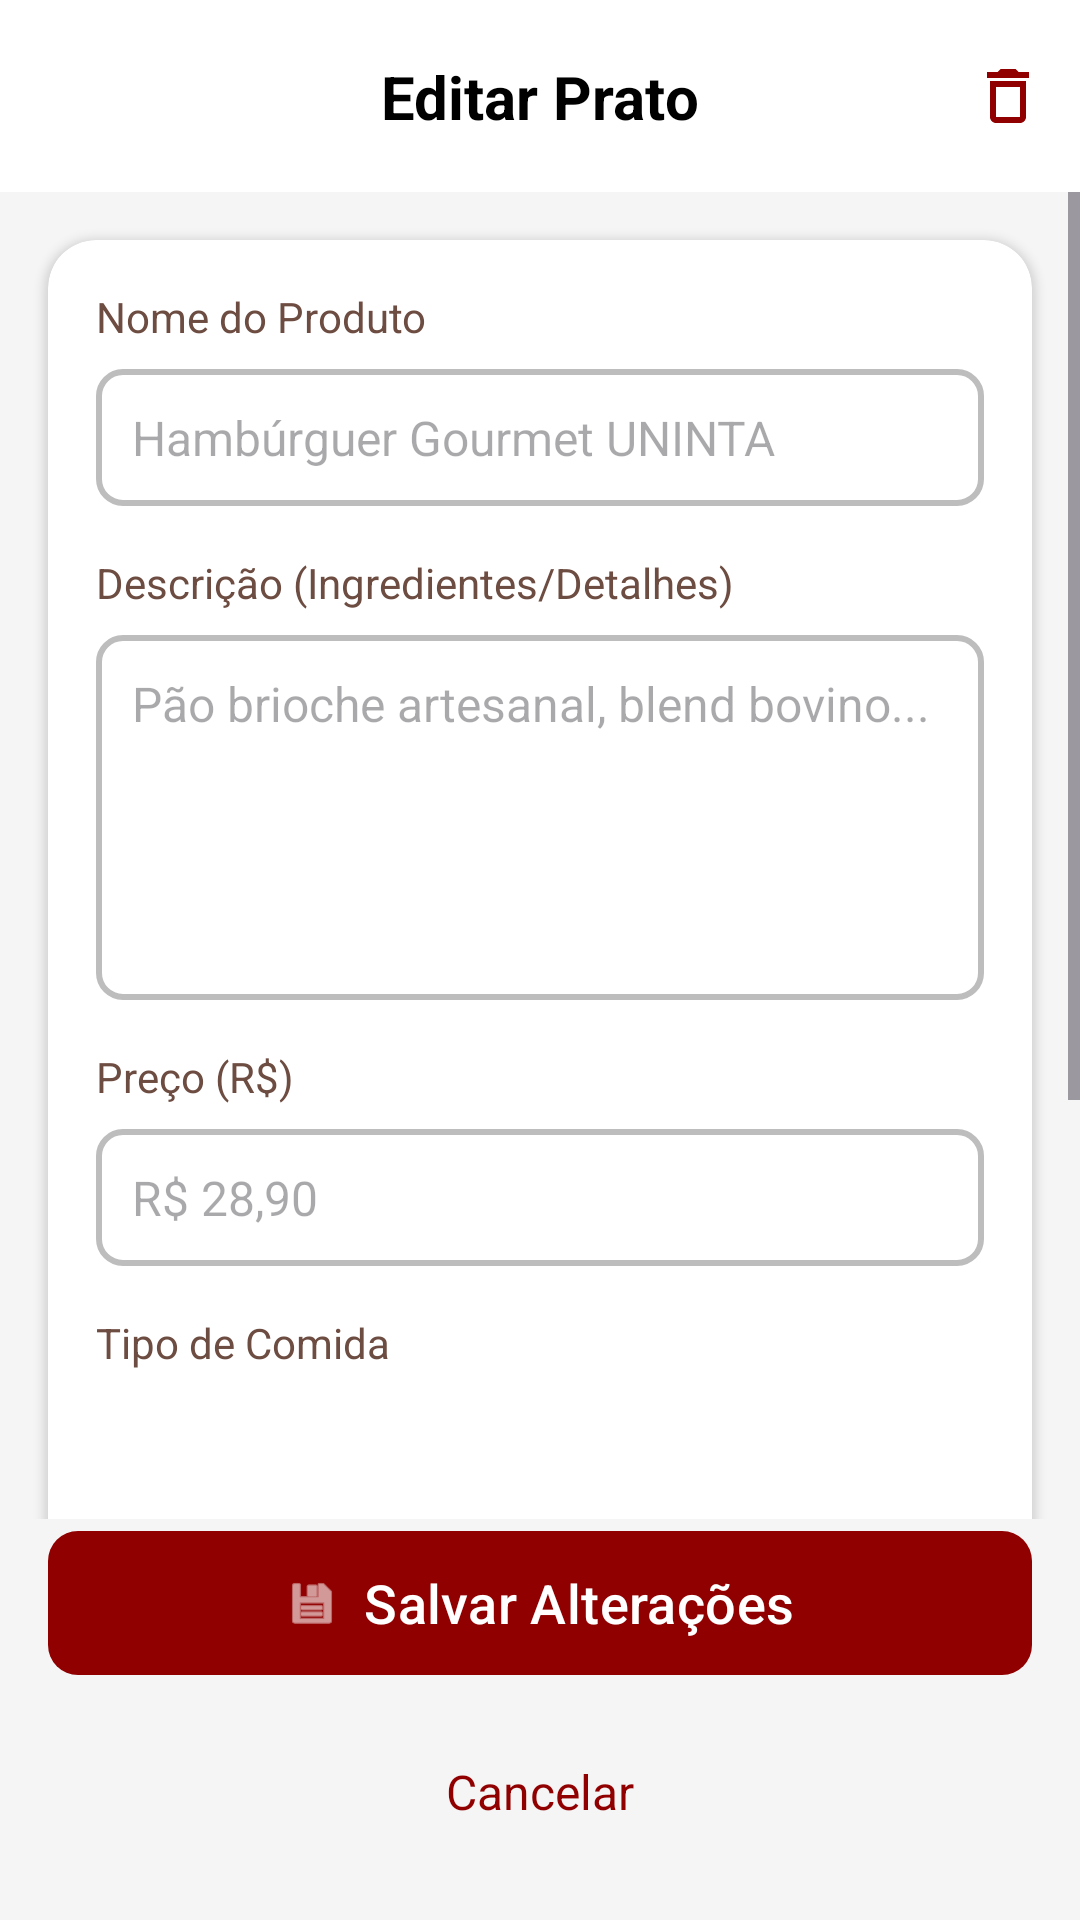

Icon bounding boxes for this 1080px×1920px phone screenshot, format [x1,y1,x2,y2]:
delete: [987,69,1029,123]
